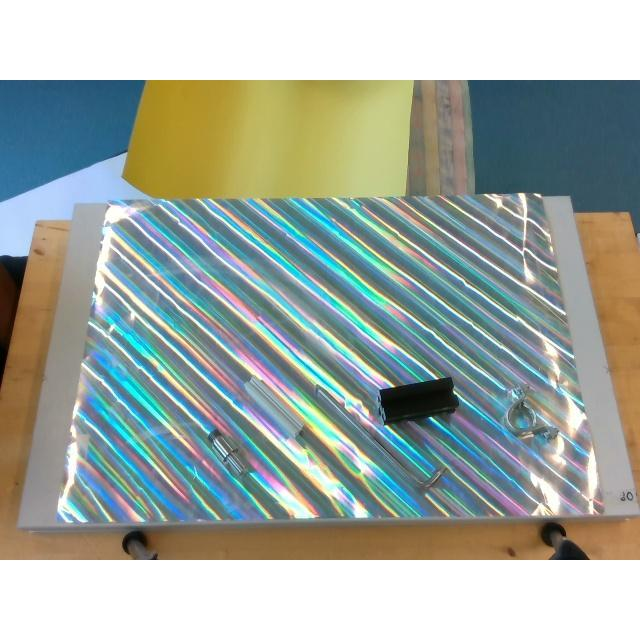AllenKey: (314, 376, 458, 492)
Axis2: (208, 430, 248, 478)
F20_20_G: (244, 376, 304, 438)
Housing: (504, 388, 558, 439)
S40_40_B: (378, 376, 458, 424)
